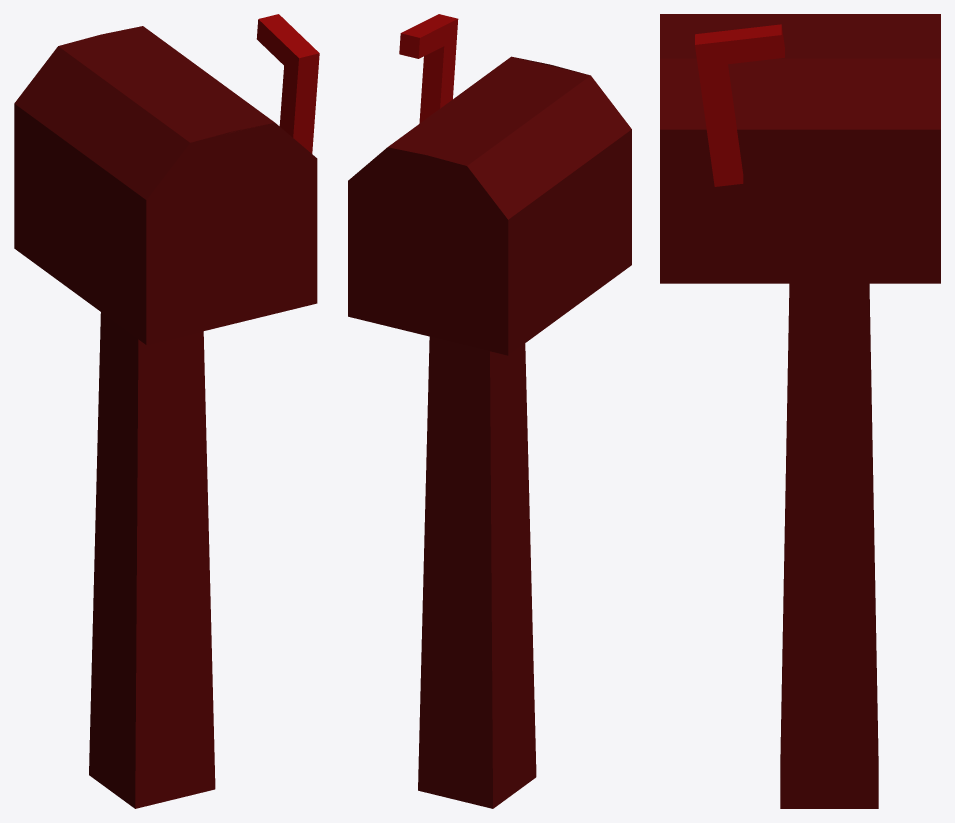
The model's file is mailbox.fbx.
3 views of the same model, side by side, from view 1: azimuth 30°, elevation 25°; view 2: azimuth 150°, elevation 25°; view 3: azimuth 270°, elevation 25° (orthographic). The views are drawn at different scales.
Visible parts, largest first — view 1: pCube1, pCube2; view 2: pCube1, pCube2; view 3: pCube1, pCube2.
Boxes of the visible parts, bbox=[...] form: pCube1: bbox=[14, 26, 317, 808]; pCube2: bbox=[256, 14, 319, 153]; pCube1: bbox=[348, 56, 631, 808]; pCube2: bbox=[399, 14, 458, 123]; pCube1: bbox=[660, 14, 940, 808]; pCube2: bbox=[695, 24, 784, 186].
Size of the model in its own units: 1.51 by 5.79 by 1.83.
